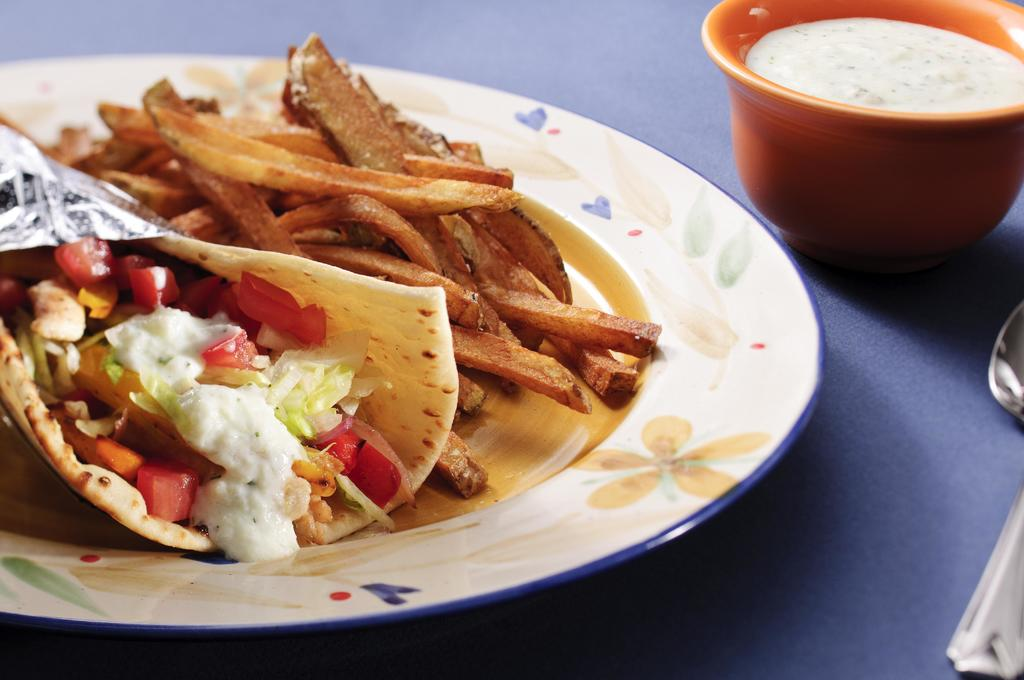taco: (56, 220, 465, 549)
